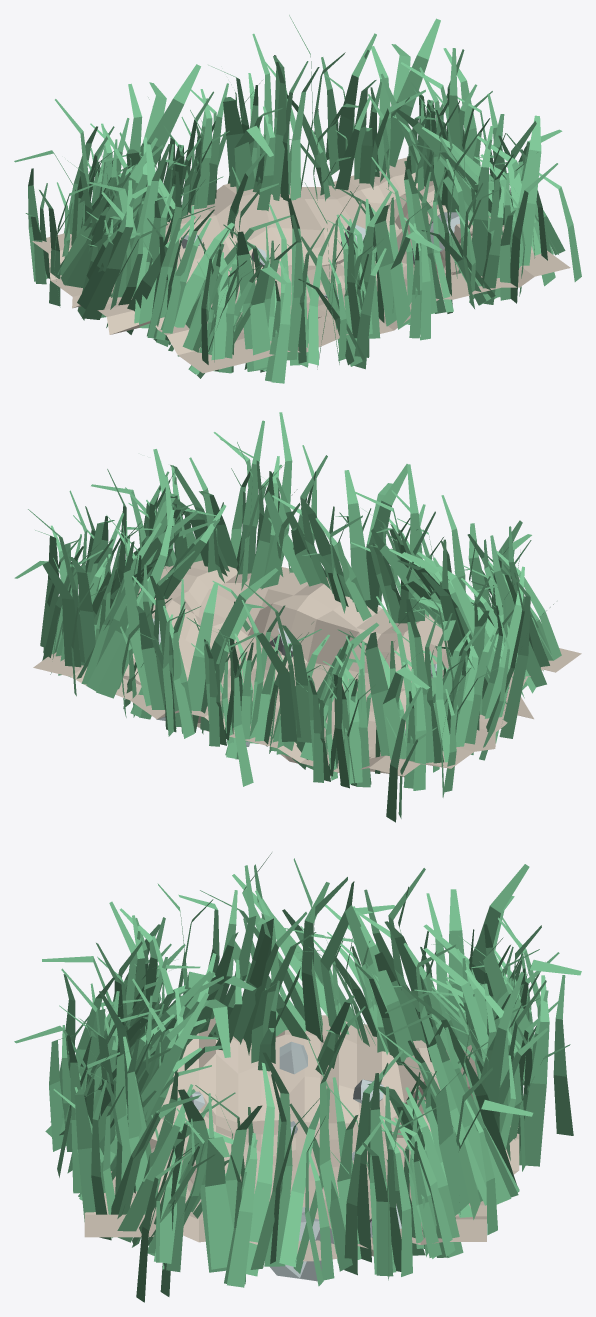
File: 041120landscapeModel.gltf
3 views of the same model, one above another, from view 1: azimuth 30°, elevation 25°; view 2: azimuth 150°, elevation 25°; view 3: azimuth 270°, elevation 25° (orthographic). The views are drawn at different scales.
Parts seen in each view (by area): view 1: Plane, Plane.118, Plane.086, Plane.213, Plane.249, Plane.116, Plane.155, Plane.189, Plane.340, Plane.156, Plane.060, Plane.246 (+72 smaller); view 2: Plane, Plane.093, Plane.213, Plane.021, Plane.053, Plane.148, Plane.341, Plane.087, Plane.124, Plane.155, Plane.007, Plane.338 (+67 smaller); view 3: Plane, Plane.302, Plane.015, Plane.307, Plane.086, Plane.311, Plane.298, Plane.090, Plane.324, Plane.301, Plane.331, Plane.106 (+85 smaller).
Part boxes in pixels (left/top/right/bottom): Plane: left=32, top=157, right=570, bottom=373; Plane.118: left=515, top=115, right=541, bottom=265; Plane.086: left=389, top=18, right=440, bottom=167; Plane.213: left=82, top=180, right=133, bottom=319; Plane.249: left=250, top=267, right=287, bottom=370; Plane.116: left=472, top=126, right=493, bottom=276; Plane.155: left=374, top=205, right=396, bottom=326; Plane.189: left=174, top=222, right=234, bottom=327; Plane.340: left=140, top=64, right=200, bottom=185; Plane.156: left=390, top=232, right=441, bottom=329; Plane.060: left=66, top=137, right=157, bottom=287; Plane.246: left=286, top=214, right=302, bottom=360; Plane: left=33, top=560, right=581, bottom=777; Plane.093: left=96, top=509, right=174, bottom=698; Plane.213: left=499, top=564, right=530, bottom=738; Plane.021: left=187, top=583, right=218, bottom=715; Plane.053: left=365, top=632, right=389, bottom=756; Plane.148: left=344, top=470, right=370, bottom=602; Plane.341: left=228, top=633, right=297, bottom=741; Plane.087: left=14, top=561, right=81, bottom=667; Plane.124: left=238, top=420, right=264, bottom=574; Plane.155: left=365, top=464, right=407, bottom=613; Plane.007: left=123, top=541, right=151, bottom=706; Plane.338: left=282, top=625, right=311, bottom=742; Plane: left=84, top=1015, right=519, bottom=1261; Plane.302: left=205, top=1137, right=233, bottom=1269; Plane.015: left=519, top=975, right=549, bottom=1166; Plane.307: left=246, top=1062, right=274, bottom=1276; Plane.086: left=435, top=1073, right=469, bottom=1215; Plane.311: left=227, top=1133, right=257, bottom=1287; Plane.298: left=279, top=1088, right=329, bottom=1267; Plane.090: left=432, top=1026, right=511, bottom=1204; Plane.324: left=354, top=1050, right=403, bottom=1262; Plane.301: left=262, top=1052, right=292, bottom=1266; Plane.331: left=553, top=975, right=573, bottom=1135; Plane.106: left=117, top=1084, right=193, bottom=1242.
Size of the model in its own units: 71.69 by 33.25 by 61.34.
